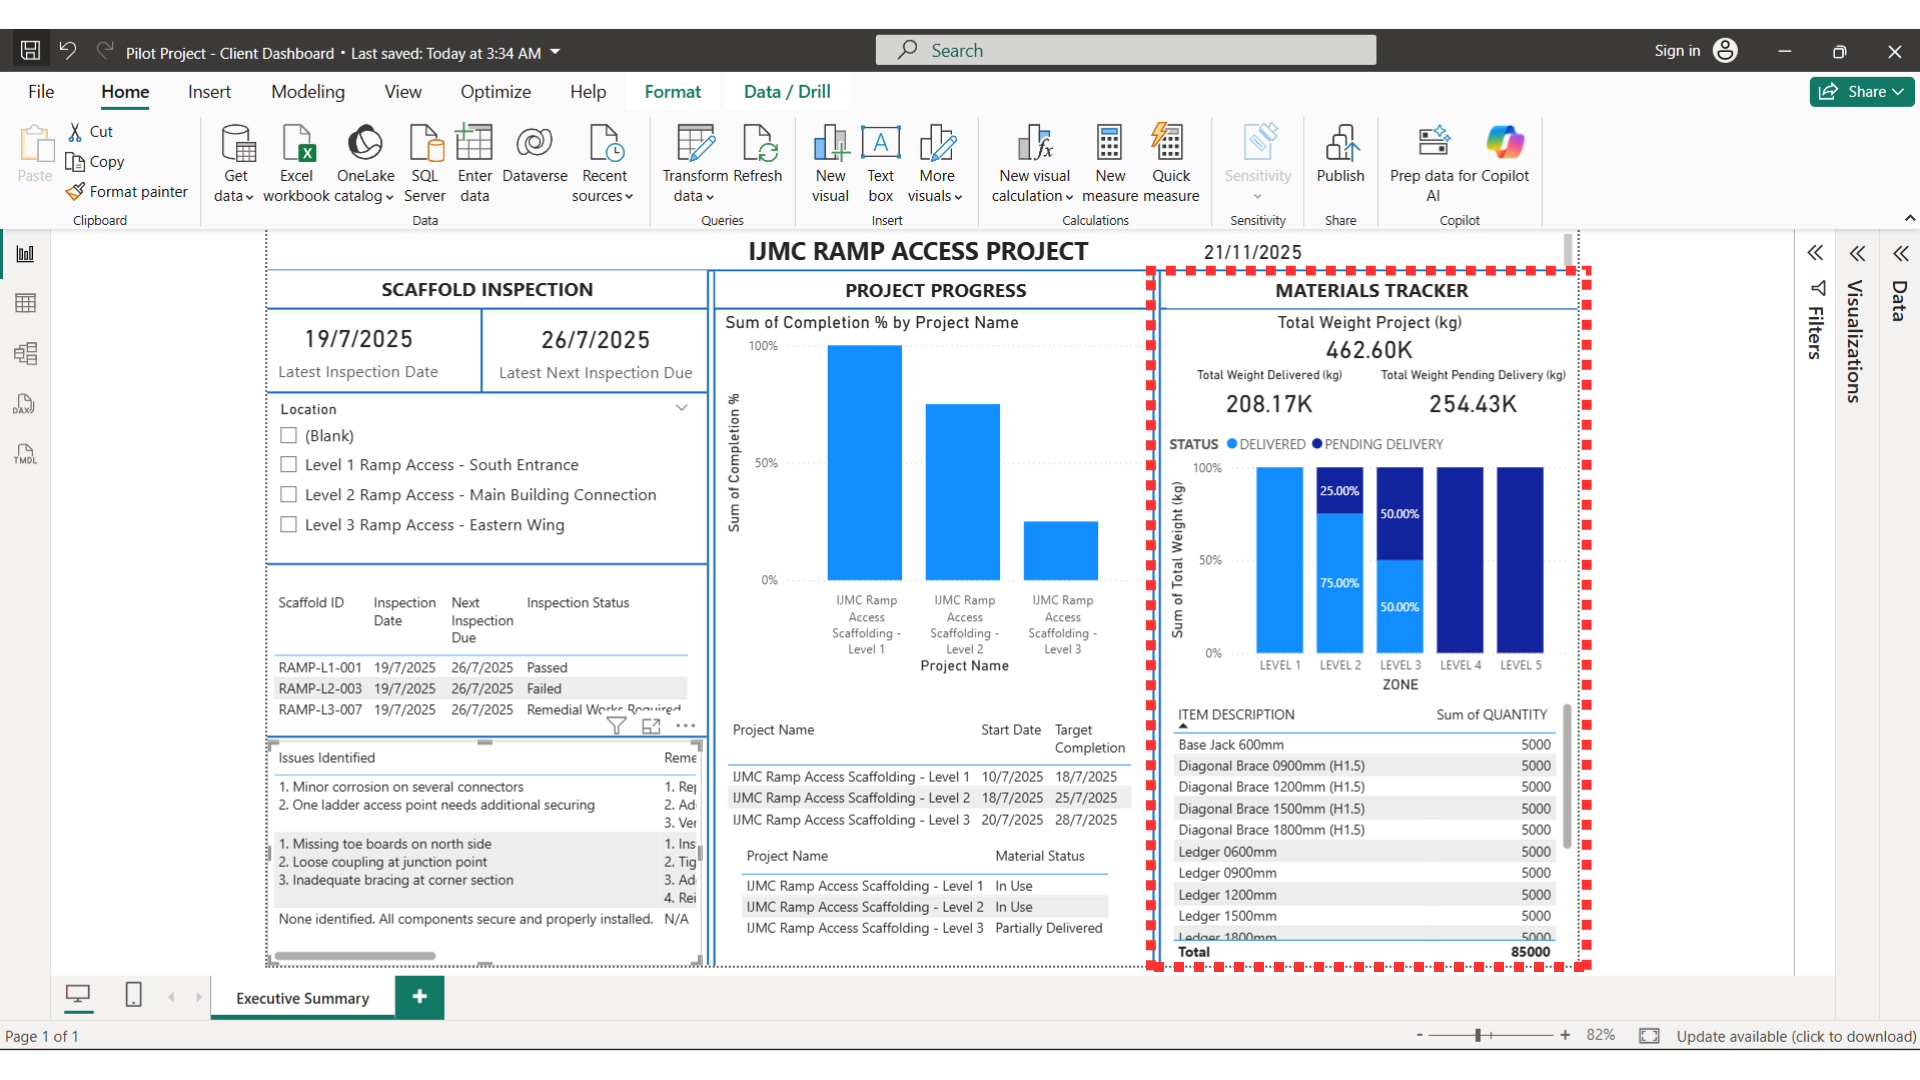

This screenshot's page, from the dashboard's own definition file:
{"tool":"powerbi","page":{"name":"Executive Summary","canvas":[1280,720],"ordinal":0},"visuals":[{"type":"textbox","box":[0,0,1280.3,41.6],"z":0},{"type":"shape","box":[0,34,1280,12.6],"z":1000},{"type":"textbox","box":[0,40.9,430.9,37],"z":2000},{"type":"shape","box":[424.1,40.9,12.6,678.9],"z":3000},{"type":"tableEx","fields":{"Values":["Scaffold Inspection Database.Scaffold ID","Scaffold Inspection Database.Inspection Date","Scaffold Inspection Database.Next Inspection Due","Scaffold Inspection Database.Inspection Status"]},"box":[0,348.2,424.1,144.9],"z":4000},{"type":"card","fields":{"Values":["Max(Scaffold Inspection Database.Inspection Date)"]},"box":[0,74.7,178.7,84.5],"z":5000},{"type":"card","fields":{"Values":["Scaffold Inspection Database.Todays Date"]},"box":[905.3,7.6,117,31.4],"z":6000},{"type":"slicer","fields":{"Values":["Scaffold Inspection Database.Location"]},"box":[0,162.4,424.1,161.5],"z":7000},{"type":"shape","box":[0,323.9,429.9,6.8],"z":8000},{"type":"shape","box":[0,74.7,429.9,6.5],"z":9000},{"type":"tableEx","fields":{"Values":["Scaffold Inspection Database.Issues Identified","Scaffold Inspection Database.Remedial Actions","Scaffold Inspection Database.Notes"]},"box":[0,499.9,424.1,219.8],"z":10000},{"type":"shape","box":[0,155.9,429.9,6.5],"z":11000},{"type":"shape","box":[0,493.1,429.9,6.8],"z":12000},{"type":"shape","box":[429.9,41.2,13,679],"z":13000},{"type":"card","fields":{"Values":["Max(Scaffold Inspection Database.Next Inspection Due)"]},"box":[215.5,81.2,212.3,74.7],"z":14000},{"type":"shape","box":[202.5,78,13,81.2],"z":15000},{"type":"textbox","box":[437.5,41.2,431,36.8],"z":16000},{"type":"shape","box":[859.8,41.2,13,679],"z":17000},{"type":"shape","box":[436.4,74.7,429.9,6.5],"z":18000},{"type":"columnChart","fields":{"Category":["TESS Project Progress Tracker.Project Name"],"Y":["Sum(TESS Project Progress Tracker.Completion %)"]},"box":[442.9,81.2,416.9,359.5],"z":19000},{"type":"tableEx","fields":{"Values":["TESS Project Progress Tracker.Project Name","TESS Project Progress Tracker.Start Date","TESS Project Progress Tracker.Target Completion"]},"box":[444,473.2,416.9,123.5],"z":20000},{"type":"tableEx","fields":{"Values":["TESS Project Progress Tracker.Project Name","TESS Project Progress Tracker.Material Status"]},"box":[457,596.7,390.9,123.5],"z":21000},{"type":"shape","box":[866.3,41.2,13,679],"z":22000},{"type":"shape","box":[872.8,74.7,407.2,6.5],"z":23000},{"type":"textbox","box":[879.3,41.2,400.7,35.7],"z":24000},{"type":"card","title":"Total Weight Project (kg)","fields":{"Values":["TESS Project Progress Tracker.Total Weight Project (kg)"]},"box":[934.6,81.2,285.9,54.1],"z":25000},{"type":"card","title":"Total Weight Delivered (kg)","fields":{"Values":["Sum(IJMC Materials Tracker.Total Weight (kg))"]},"box":[879.3,135.4,200.3,54.1],"z":26000},{"type":"card","title":"Total Weight Pending Delivery (kg)","fields":{"Values":["Sum(IJMC Materials Tracker.Total Weight (kg))"]},"box":[1077.5,135.4,202.5,54.1],"z":27000},{"type":"hundredPercentStackedColumnChart","fields":{"Category":["IJMC Materials Tracker.ZONE"],"Y":["Sum(IJMC Materials Tracker.Total Weight (kg))"],"Series":["IJMC Materials Tracker.STATUS"]},"box":[877.2,189.5,400.7,268.6],"z":28000},{"type":"tableEx","fields":{"Values":["IJMC Materials Tracker.ITEM DESCRIPTION","Sum(IJMC Materials Tracker.QUANTITY)"]},"box":[879.3,458.1,400.7,262.1],"z":29000}]}

Visuals, with their boxes on the page's 1280x720 design canvas (x1, y1, x2, y2). These are canvas units, not pixel positions in the 1920x1080 screenshot, which may show the page scaled, cropped or inside an application window:
textbox: 0, 0, 1280, 42
shape: 0, 34, 1280, 47
textbox: 0, 41, 431, 78
shape: 424, 41, 437, 720
tableEx - Scaffold Inspection Database.Scaffold ID x Scaffold Inspection Database.Inspection Date: 0, 348, 424, 493
card - Max(Scaffold Inspection Database.Inspection Date): 0, 75, 179, 159
card - Scaffold Inspection Database.Todays Date: 905, 8, 1022, 39
slicer - Scaffold Inspection Database.Location: 0, 162, 424, 324
shape: 0, 324, 430, 331
shape: 0, 75, 430, 81
tableEx - Scaffold Inspection Database.Issues Identified x Scaffold Inspection Database.Remedial Actions: 0, 500, 424, 720
shape: 0, 156, 430, 162
shape: 0, 493, 430, 500
shape: 430, 41, 443, 720
card - Max(Scaffold Inspection Database.Next Inspection Due): 216, 81, 428, 156
shape: 202, 78, 216, 159
textbox: 438, 41, 868, 78
shape: 860, 41, 873, 720
shape: 436, 75, 866, 81
columnChart - TESS Project Progress Tracker.Project Name x Sum(TESS Project Progress Tracker.Completion %): 443, 81, 860, 441
tableEx - TESS Project Progress Tracker.Project Name x TESS Project Progress Tracker.Start Date: 444, 473, 861, 597
tableEx - TESS Project Progress Tracker.Project Name x TESS Project Progress Tracker.Material Status: 457, 597, 848, 720
shape: 866, 41, 879, 720
shape: 873, 75, 1280, 81
textbox: 879, 41, 1280, 77
"Total Weight Project (kg)" card: 935, 81, 1220, 135
"Total Weight Delivered (kg)" card: 879, 135, 1080, 190
"Total Weight Pending Delivery (kg)" card: 1078, 135, 1280, 190
hundredPercentStackedColumnChart - IJMC Materials Tracker.ZONE x Sum(IJMC Materials Tracker.Total Weight (kg)): 877, 190, 1278, 458
tableEx - IJMC Materials Tracker.ITEM DESCRIPTION x Sum(IJMC Materials Tracker.QUANTITY): 879, 458, 1280, 720
